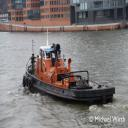tugboat: (23, 33, 117, 107)
